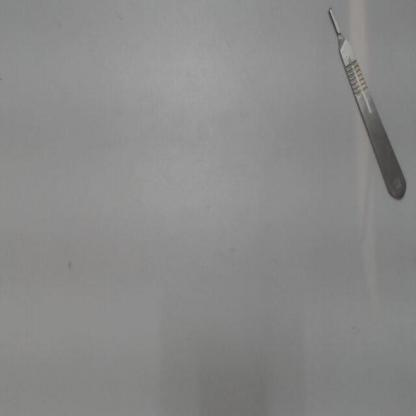No.3 BP Handle: (321, 0, 413, 221)
